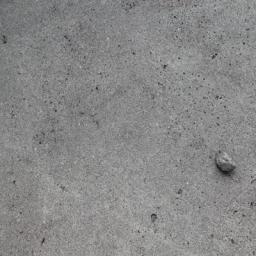FOD: (213, 147, 238, 177)
